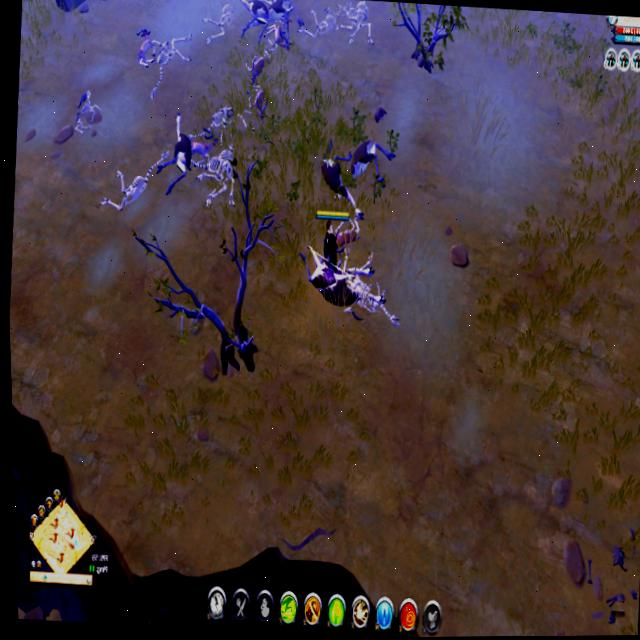mob: (302, 254, 391, 316), (315, 140, 366, 219), (152, 108, 197, 190), (231, 0, 303, 41), (342, 131, 390, 185), (188, 128, 221, 165), (332, 213, 361, 253), (243, 83, 268, 123), (266, 22, 292, 56), (241, 52, 267, 84)
red: (312, 204, 352, 271)
